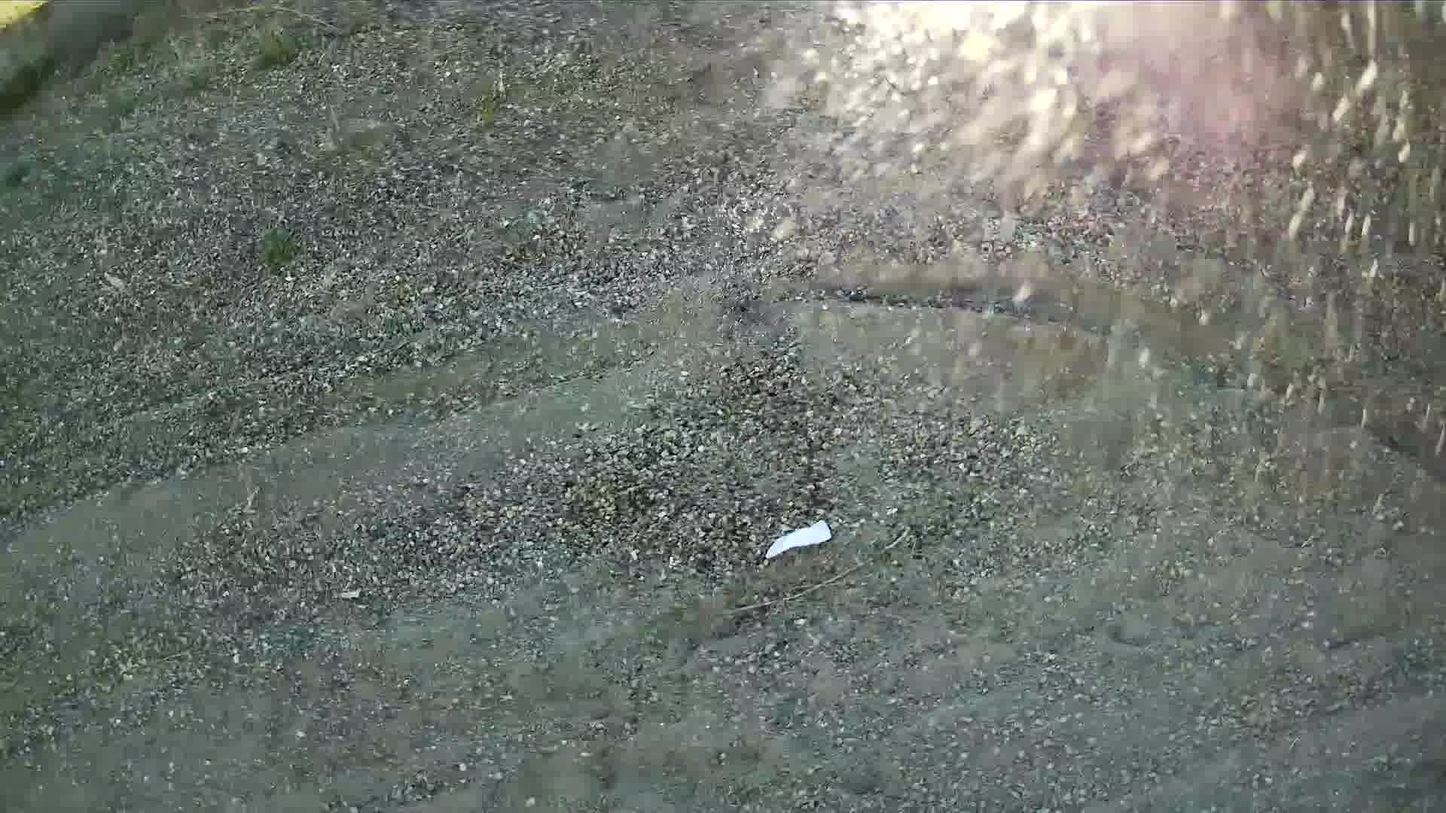Target: (767, 513, 830, 561)
